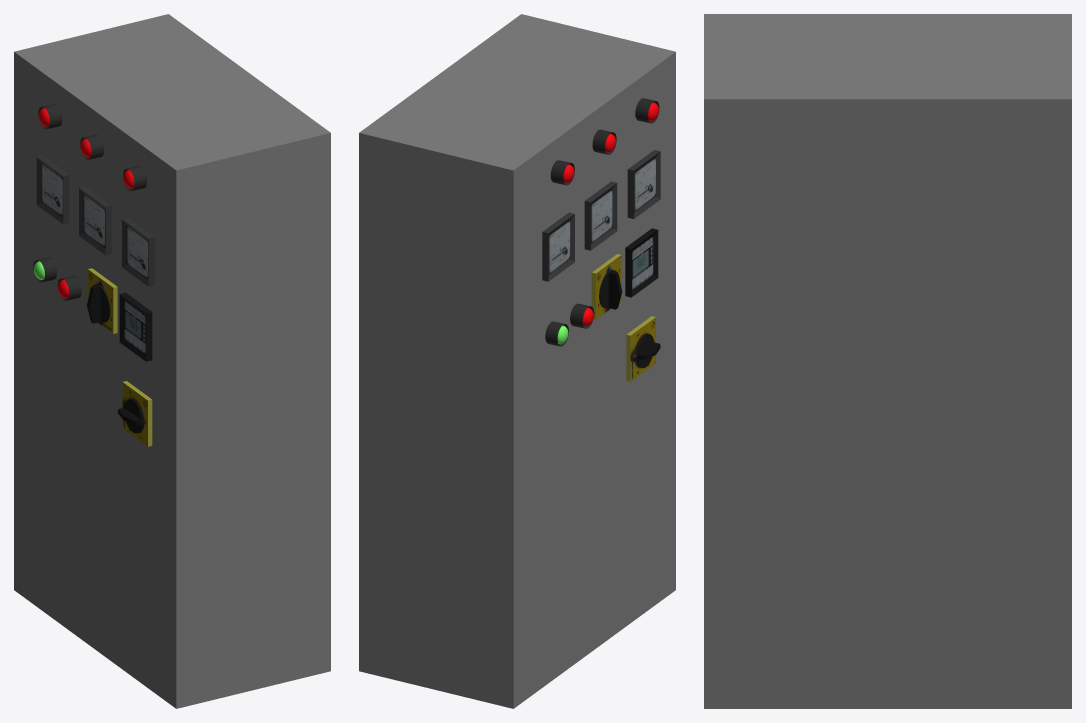
Rendered from generator.glb.
3 views of the same model, side by side, from view 1: azimuth 30°, elevation 25°; view 2: azimuth 150°, elevation 25°; view 3: azimuth 270°, elevation 25° (orthographic). The views are drawn at different scales.
Parts seen in each view (by area): view 1: Cube; view 2: Cube; view 3: Cube.
Boxes of the visible parts, x1=… form: Cube: x1=14, y1=14, x2=330, y2=708; Cube: x1=359, y1=14, x2=675, y2=708; Cube: x1=704, y1=14, x2=1071, y2=708.
Bounding box in the file's own units: 1.22 × 3.66 × 2.
Materials: 27 (6 with a texture image).
